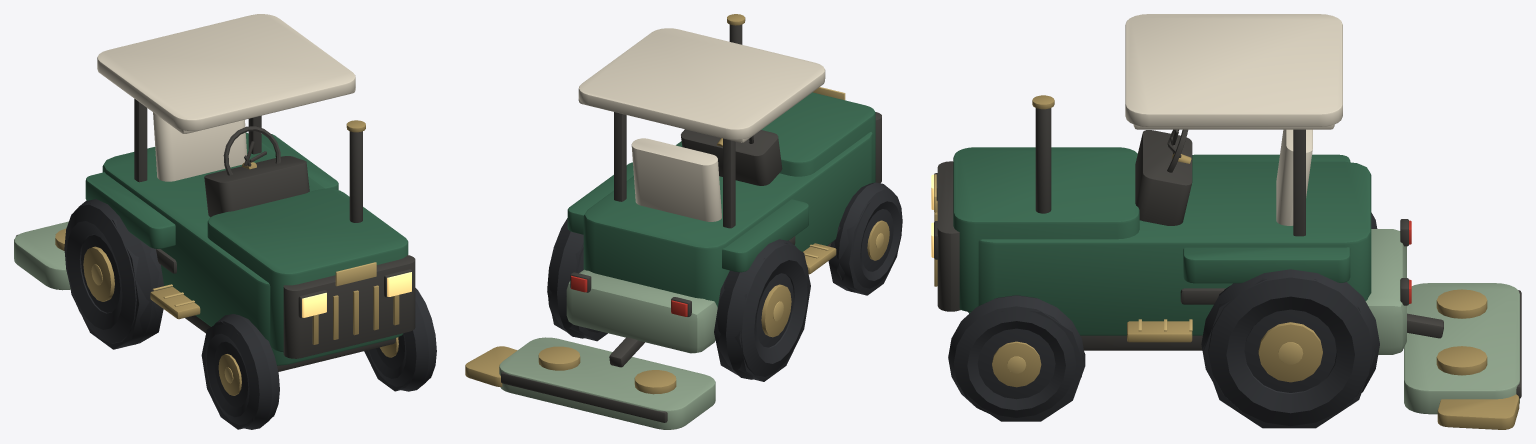
File: grounds_tractor.glb
The picture shows the model from 3 angles, left to right: view 1: azimuth 30°, elevation 25°; view 2: azimuth 150°, elevation 25°; view 3: azimuth 270°, elevation 25°; orthographic projection. The views are drawn at different scales.
Visible parts, largest first — view 1: LOD0_StaticBody, LOD1_StaticBody, Wheel_RL, Wheel_FL, Wheel_FR, MowerDeck, SteeringWheel, LIGHT_Head_L, LIGHT_Head_R; view 2: LOD0_StaticBody, LOD1_StaticBody, MowerDeck, Wheel_RL, Wheel_FL, Wheel_RR; view 3: LOD0_StaticBody, LOD1_StaticBody, Wheel_RR, MowerDeck, Wheel_FR, SteeringWheel.
Part boxes in pixels (x1,y1,x2,y2): LOD0_StaticBody: (85,14,415,371); LOD1_StaticBody: (64,68,431,429); Wheel_RL: (64,199,159,345); Wheel_FL: (205,314,279,429); Wheel_FR: (368,288,436,391); MowerDeck: (14,221,70,290); SteeringWheel: (223,126,280,175); LIGHT_Head_L: (302,292,326,317); LIGHT_Head_R: (387,272,411,296); LOD0_StaticBody: (566,14,881,353); LOD1_StaticBody: (547,82,902,381); MowerDeck: (465,337,715,429); Wheel_RL: (717,239,809,379); Wheel_FL: (834,182,902,292); Wheel_RR: (547,218,600,338); LOD0_StaticBody: (934,14,1406,354); LOD1_StaticBody: (966,124,1375,428); Wheel_RR: (1201,269,1379,426); MowerDeck: (1404,283,1521,429); Wheel_FR: (948,295,1084,417); SteeringWheel: (1167,129,1191,172).
Size of what is drawn, in the model's own units: 2.12 by 2.31 by 3.96.
